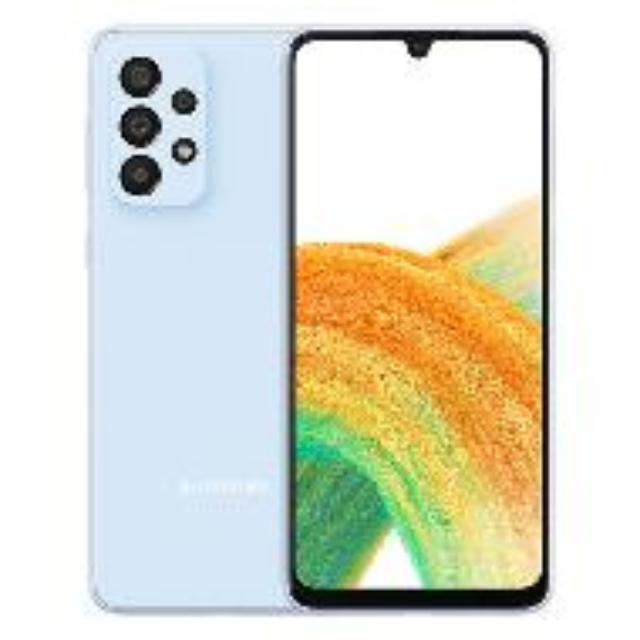PhoneUse: (288, 22, 554, 612), (88, 26, 290, 614)
